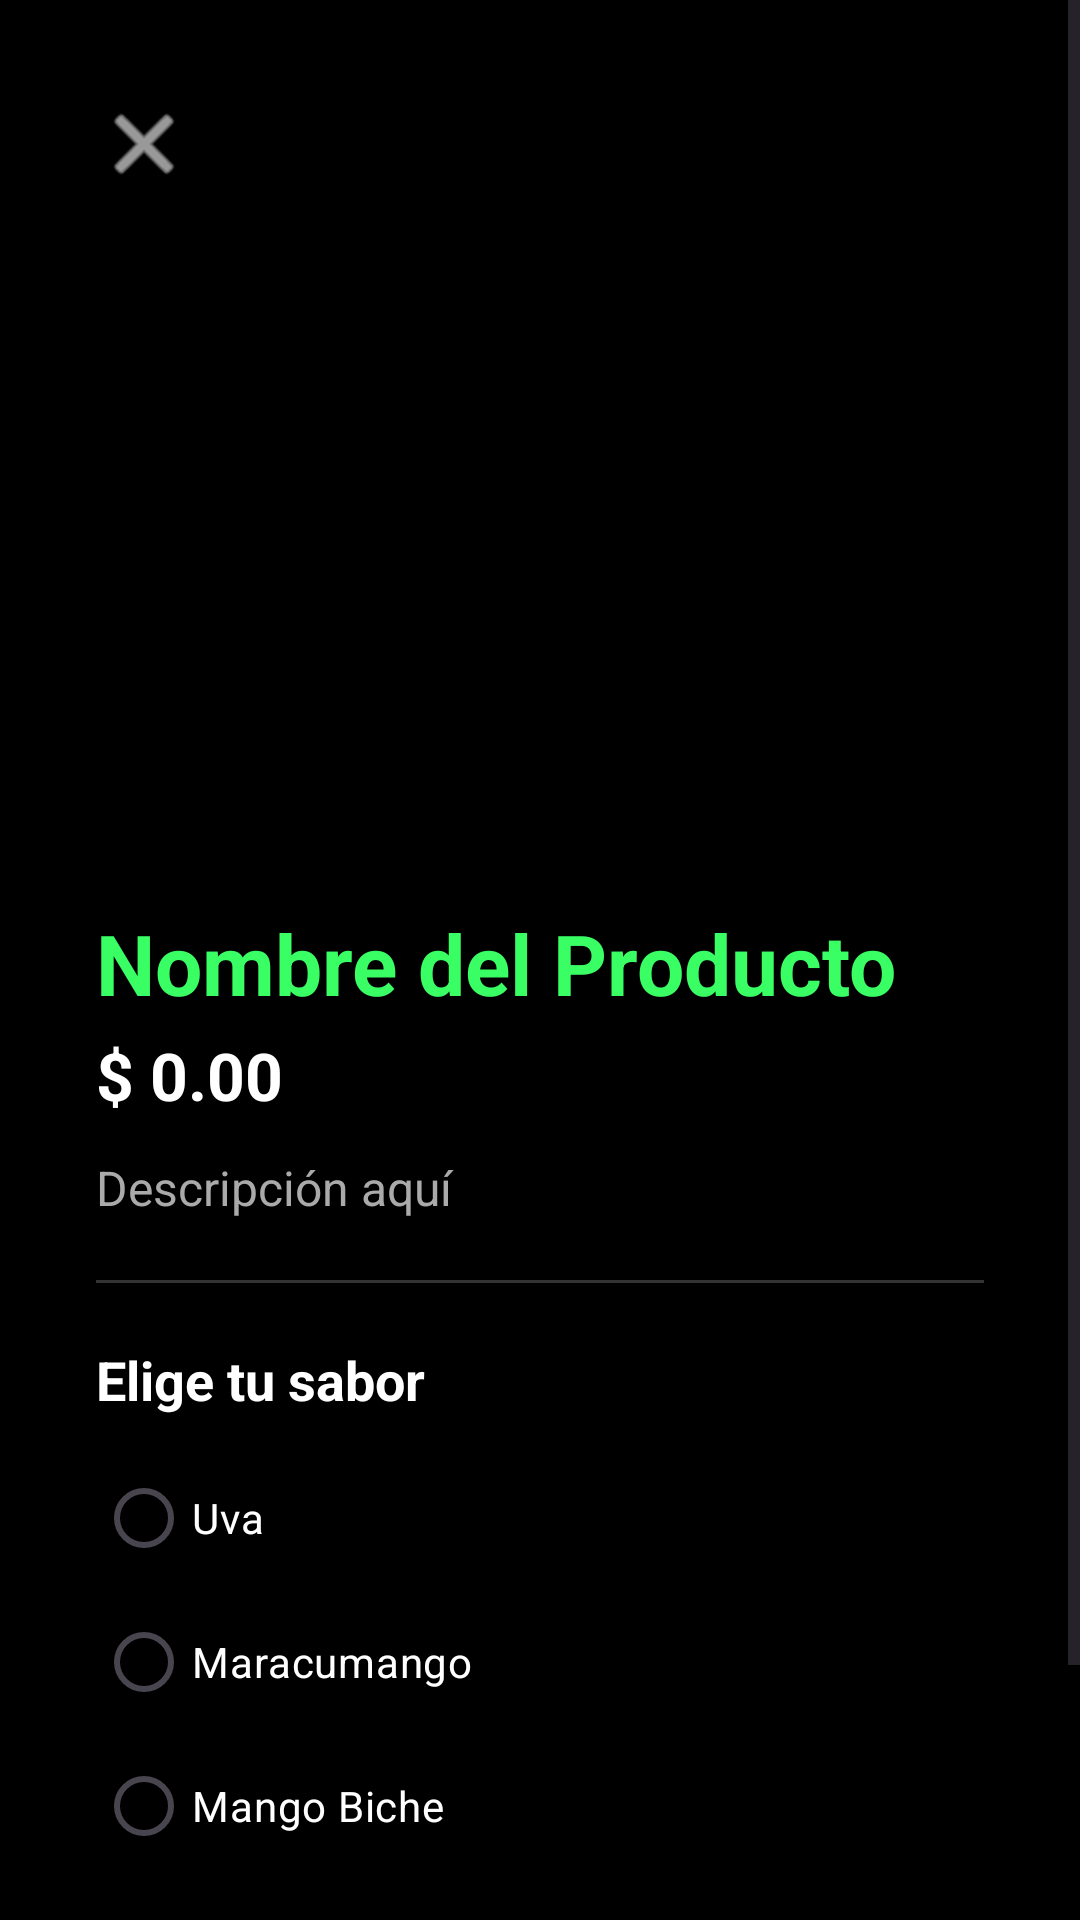

Icon bounding boxes for this 1080px x 1920px phone screenshot, format (x1=x1, y1=y1, x2=x2, y2=y2):
Cerrar detalle: (x1=114, y1=114, x2=174, y2=174)
